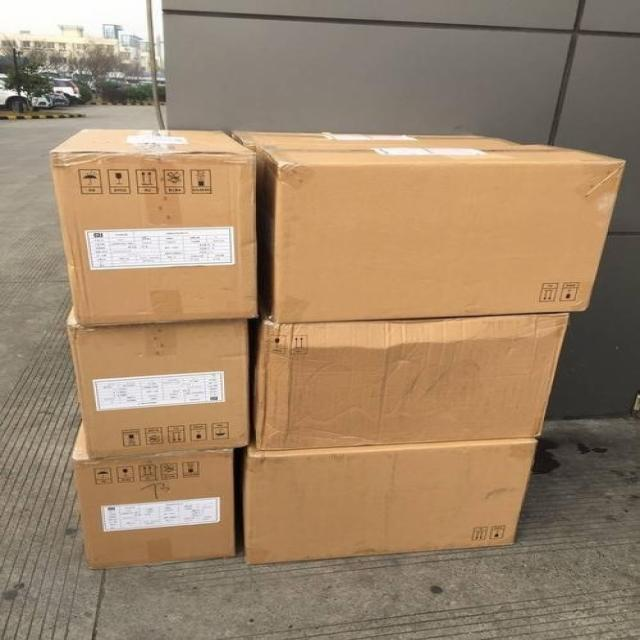box: (257, 144, 626, 320), (256, 313, 570, 451), (47, 129, 257, 328), (246, 442, 538, 566), (70, 320, 251, 459), (72, 448, 236, 570), (233, 130, 517, 146)
